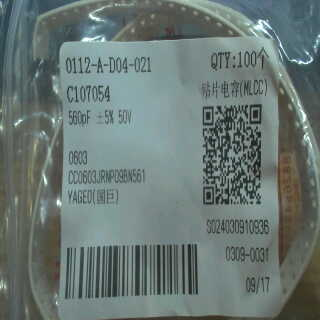560pF: (67, 108, 95, 128)
